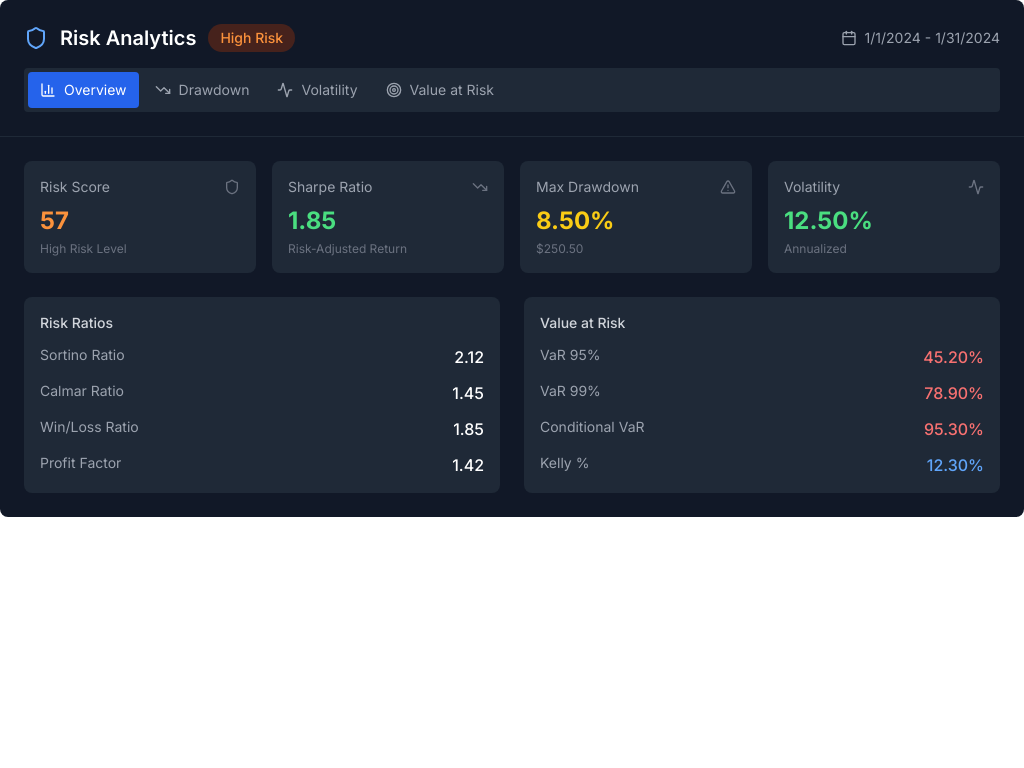
Test: Performance Analytics Components › RiskAnalyticsDashboard › handles view mode changes
The width and height of the screenshot is (1024, 768).
Click the button "Drawdown" at (202, 90), box x1=143 y1=72 x2=262 y2=108
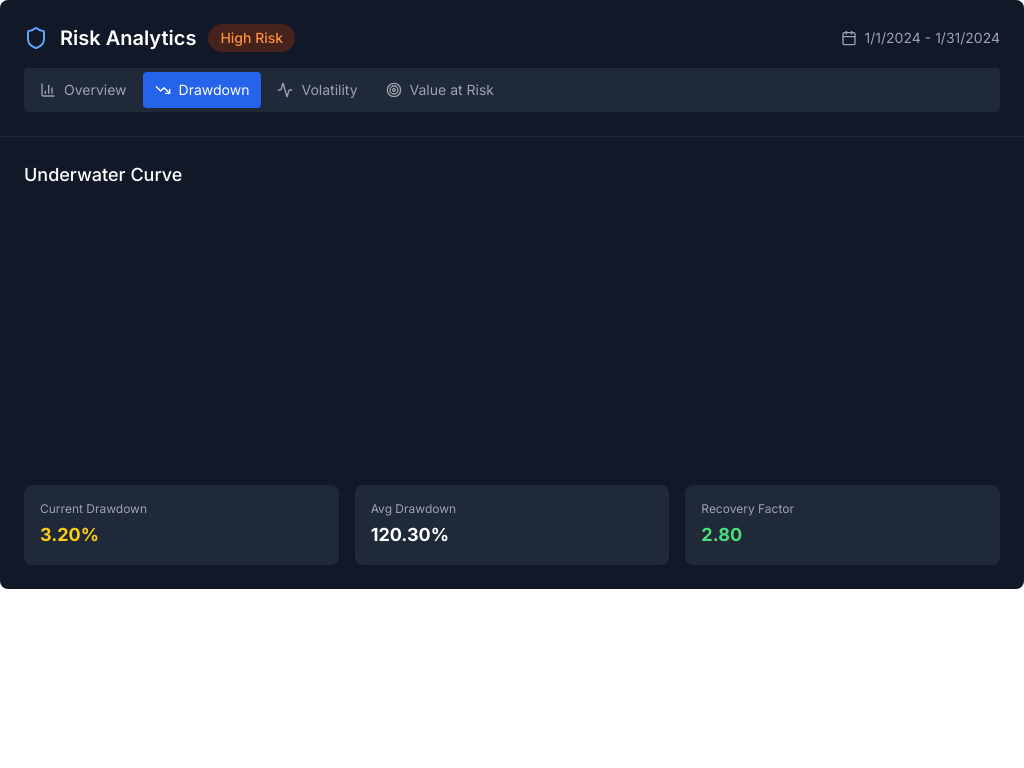
Result: the heading "Underwater Curve" is shown at x1=24 y1=164 x2=182 y2=185
